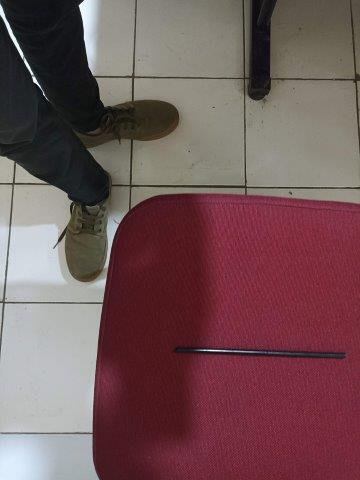sedotan: (173, 347, 345, 359)
